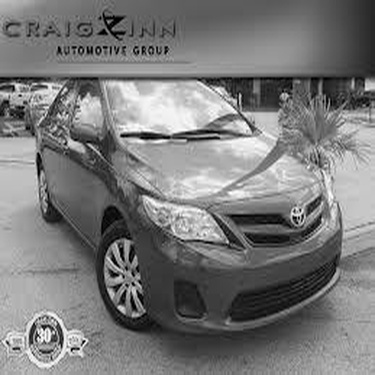car: (25, 85, 348, 342), (24, 87, 63, 133), (11, 77, 63, 108), (206, 75, 240, 115), (1, 78, 27, 106)
